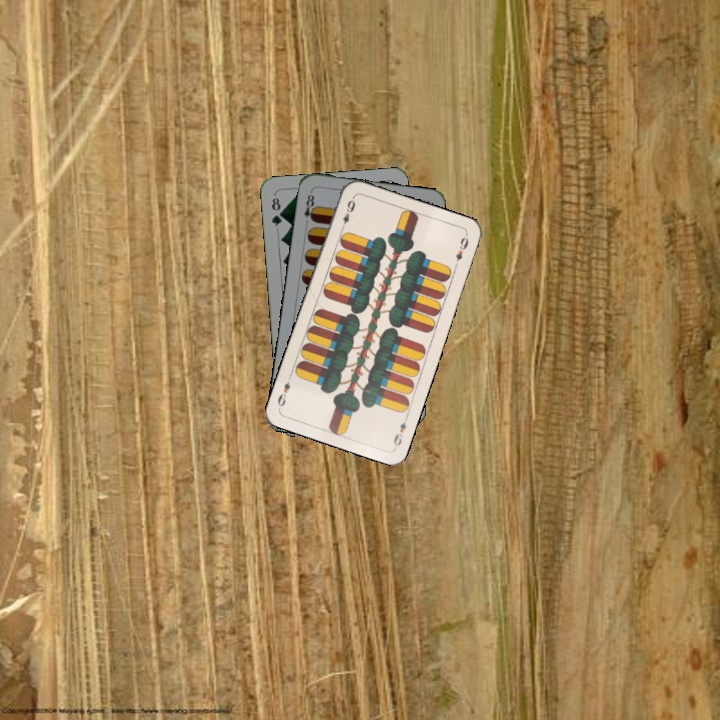E8: (300, 187, 318, 228)
E9: (389, 411, 411, 450), (337, 193, 358, 233)
G8: (267, 191, 285, 229)
